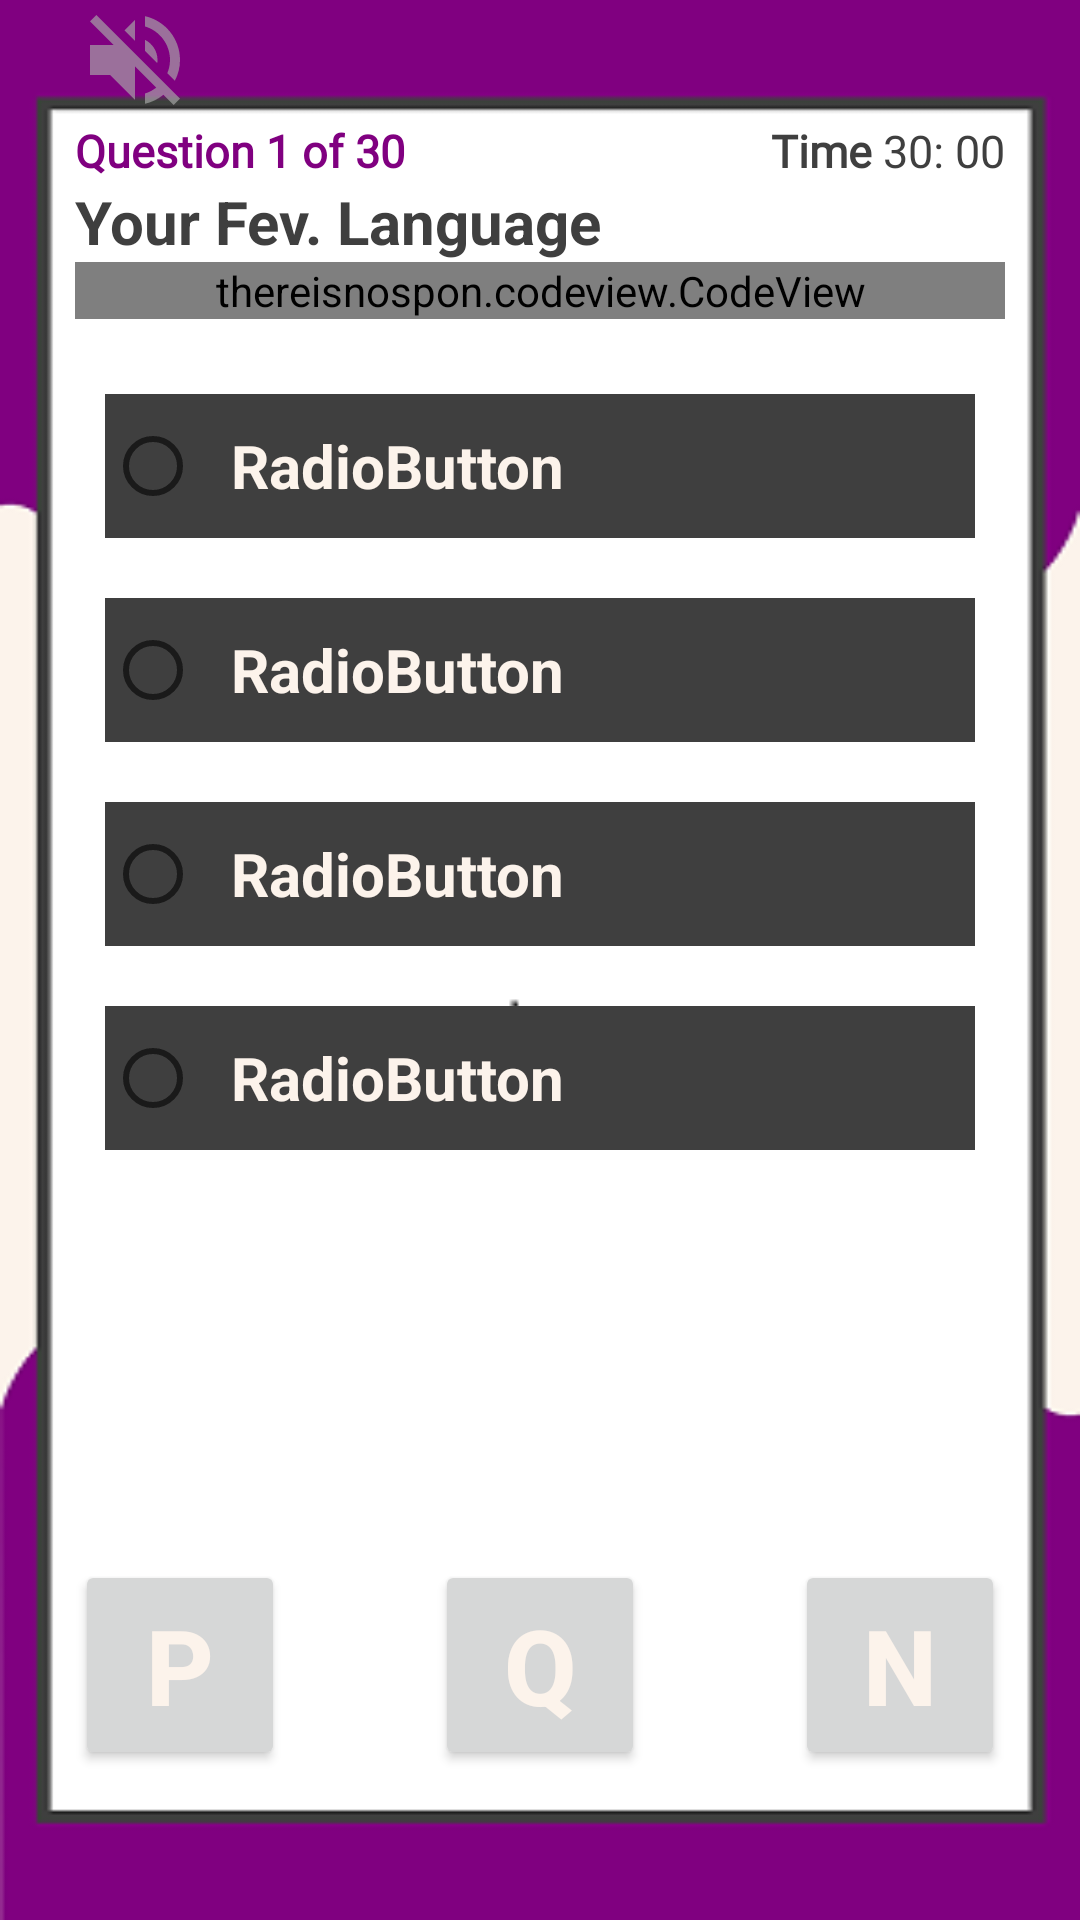

Icon click points for this 1080×1920 phone screenshot, format (x,y):
volume off: (135,60)
